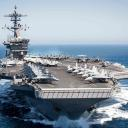Portanaves: (1, 6, 128, 124)
